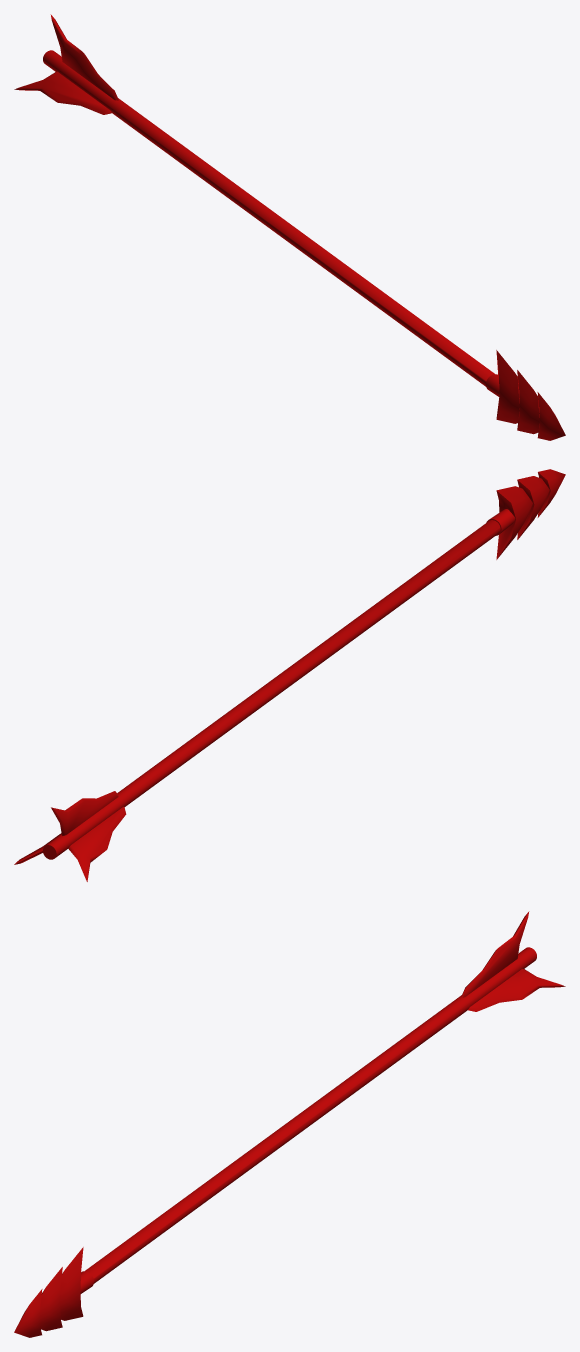
Rendered from dungeon arrow v2.fbx.
3 renders of one model, top to bottom at view 1: azimuth 30°, elevation 25°; view 2: azimuth 150°, elevation 25°; view 3: azimuth 330°, elevation 25°, orthographic.
Visible parts, largest first — view 1: head 3; view 2: head 3; view 3: head 3.
Boxes of the visible parts, x1=… form: head 3: x1=14, y1=14, x2=565, y2=440; head 3: x1=14, y1=469, x2=565, y2=881; head 3: x1=14, y1=911, x2=565, y2=1337.
Size of the model in its own units: 85.45 by 88.38 by 1041.
